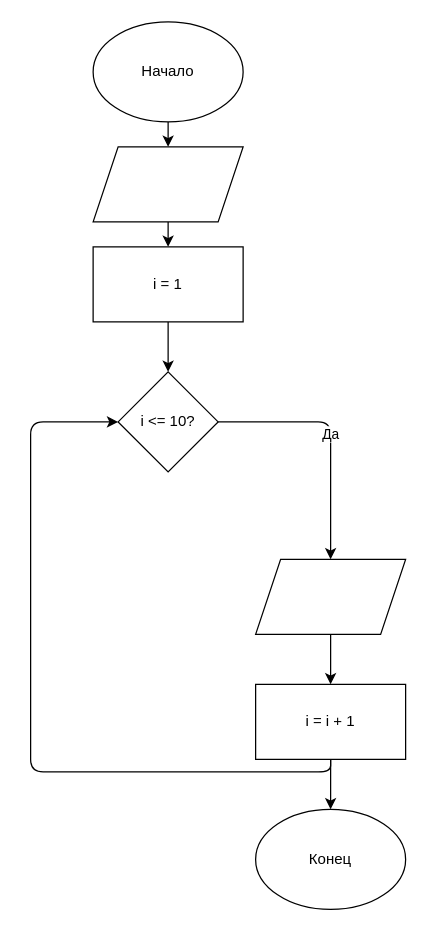
The diagram is 428 pixels wide and 931 high, and some of its shapes have lost their labels. Each missing label, with the centre of its shape:
"Ввод: число N" belongs at point 167,184.
"Вывоод: N * i = N * i" belongs at point 330,596.
